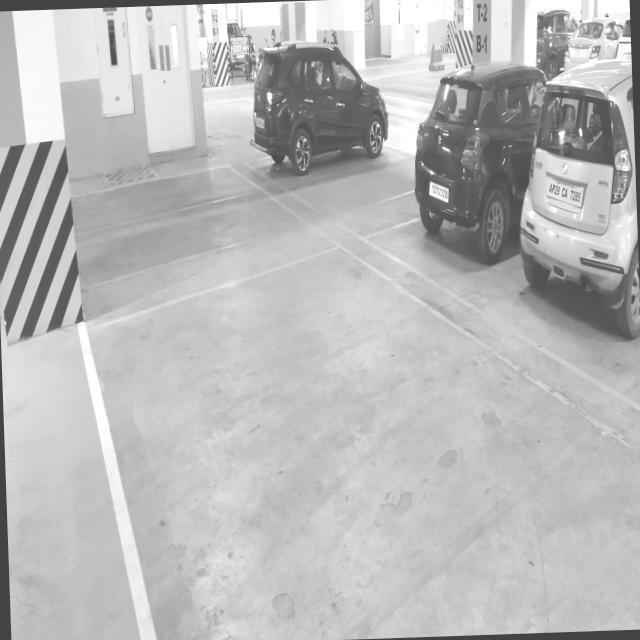car: (530, 187, 634, 351), (394, 186, 500, 262)
free: (161, 398, 482, 610), (132, 292, 315, 399), (105, 226, 264, 284), (78, 163, 236, 212), (250, 102, 373, 162)
